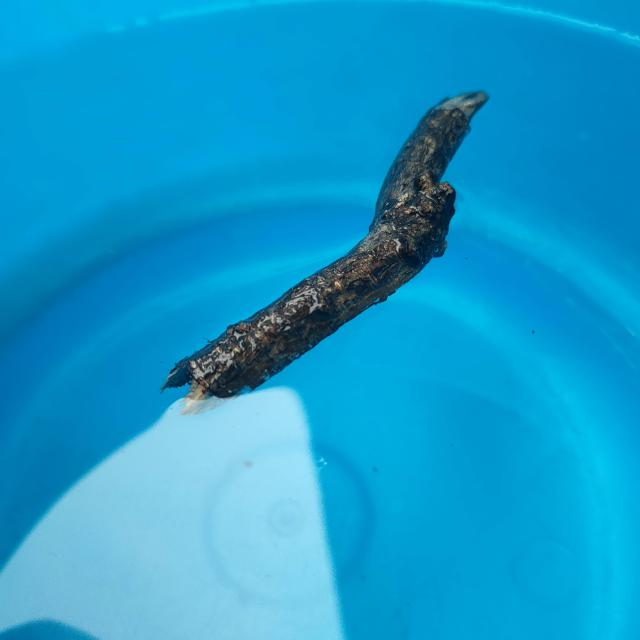litter: (140, 51, 486, 412)
